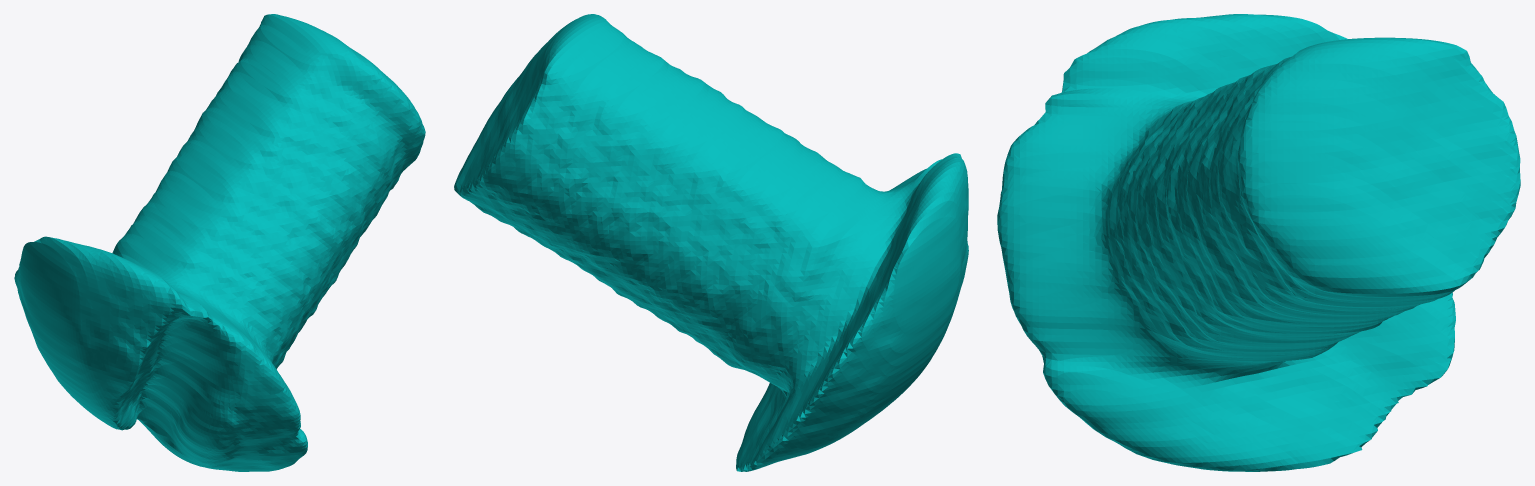
3 renders of one model, left to right at view 1: azimuth 30°, elevation 25°; view 2: azimuth 150°, elevation 25°; view 3: azimuth 270°, elevation 25°, orthographic. The views are drawn at different scales.
Size of the model in its own units: 0.9971 by 0.9218 by 0.8492.
